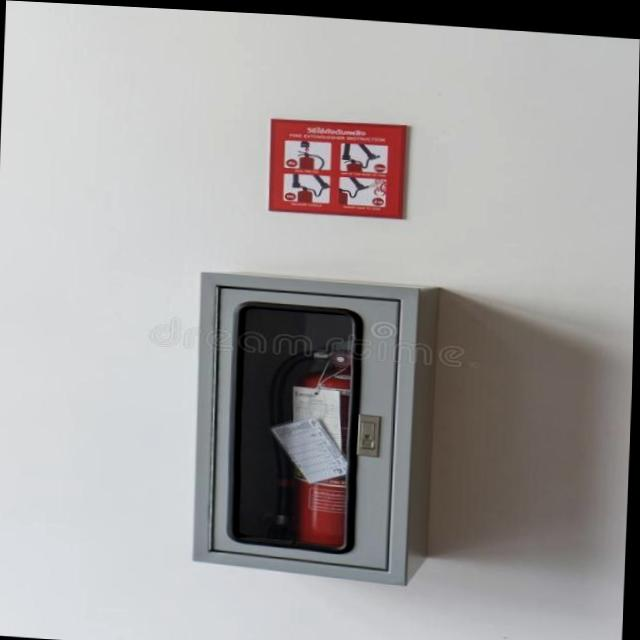FireExtinguisher: (258, 311, 394, 568)
